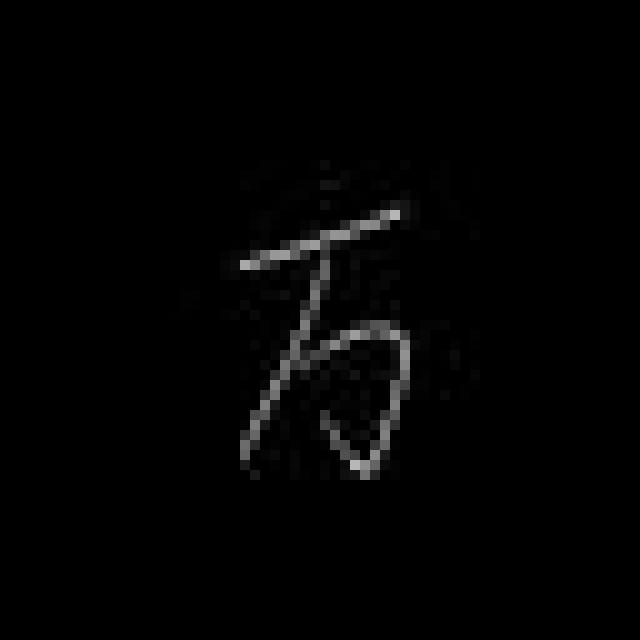10000 -a ten thousand-: (214, 196, 421, 489)
